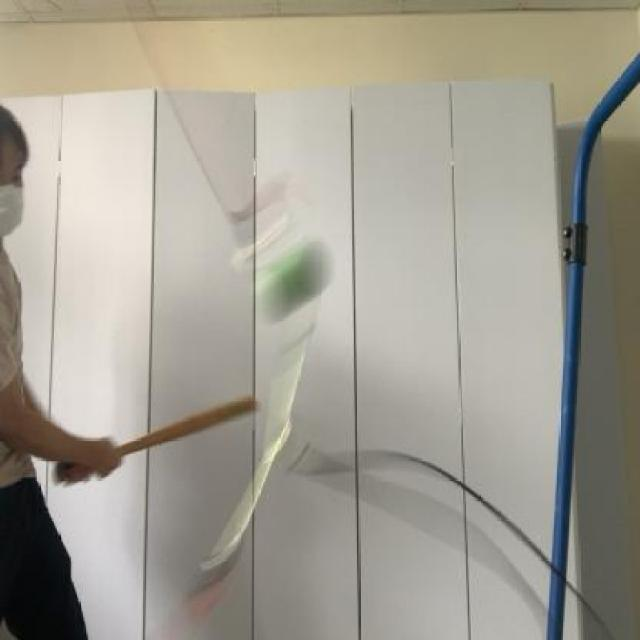baseball: (256, 229, 347, 334)
